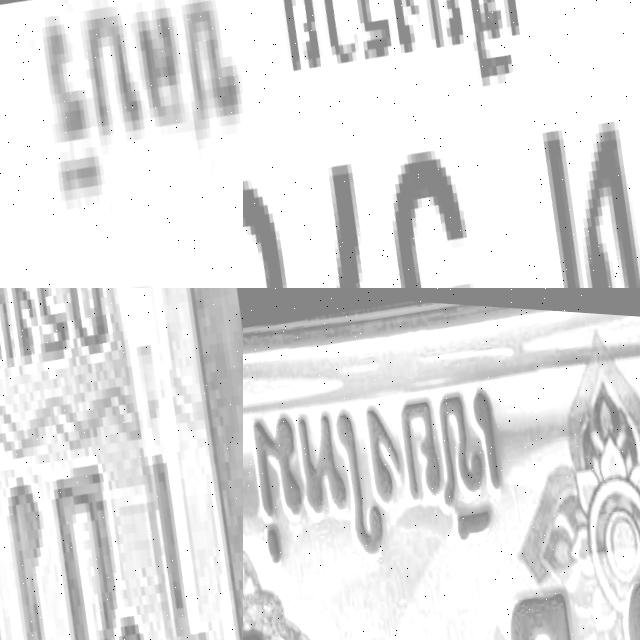license-plate: (243, 288, 640, 640), (243, 0, 640, 288), (0, 288, 243, 640), (0, 0, 243, 288)
